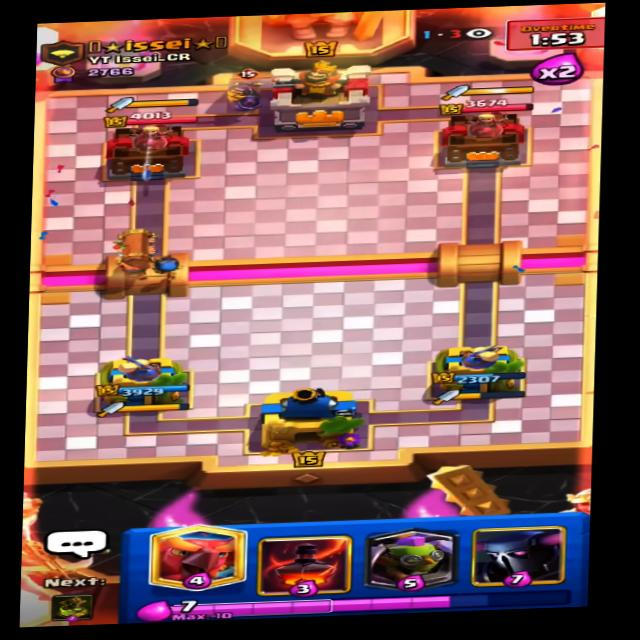EvoKnight: (221, 67, 265, 113)
